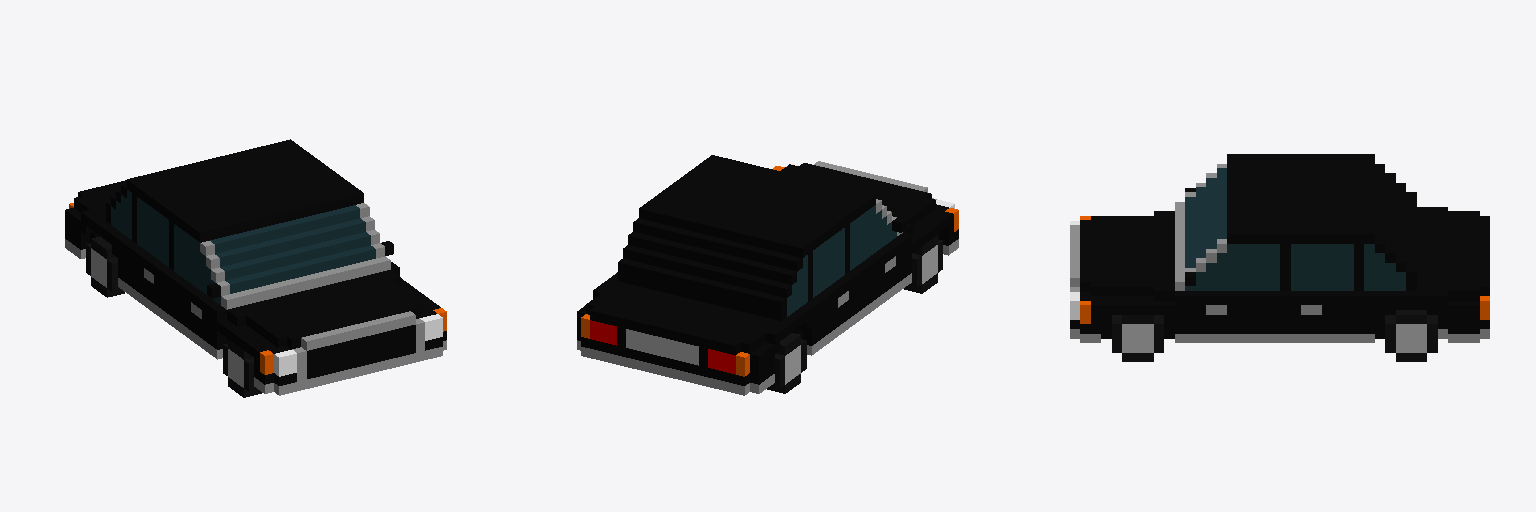
The picture shows the model from 3 angles: view 1: azimuth 30°, elevation 25°; view 2: azimuth 150°, elevation 25°; view 3: azimuth 270°, elevation 25°; orthographic projection.
Visible parts, largest first — view 1: object 1; view 2: object 1; view 3: object 1.
Boxes of the visible parts, <box> form: object 1: <box>65,139,446,397</box>; object 1: <box>577,155,958,395</box>; object 1: <box>1070,154,1489,361</box>.
Size of the model in its own units: 2 by 1.3 by 4.
Materials: 1 (1 with a texture image).